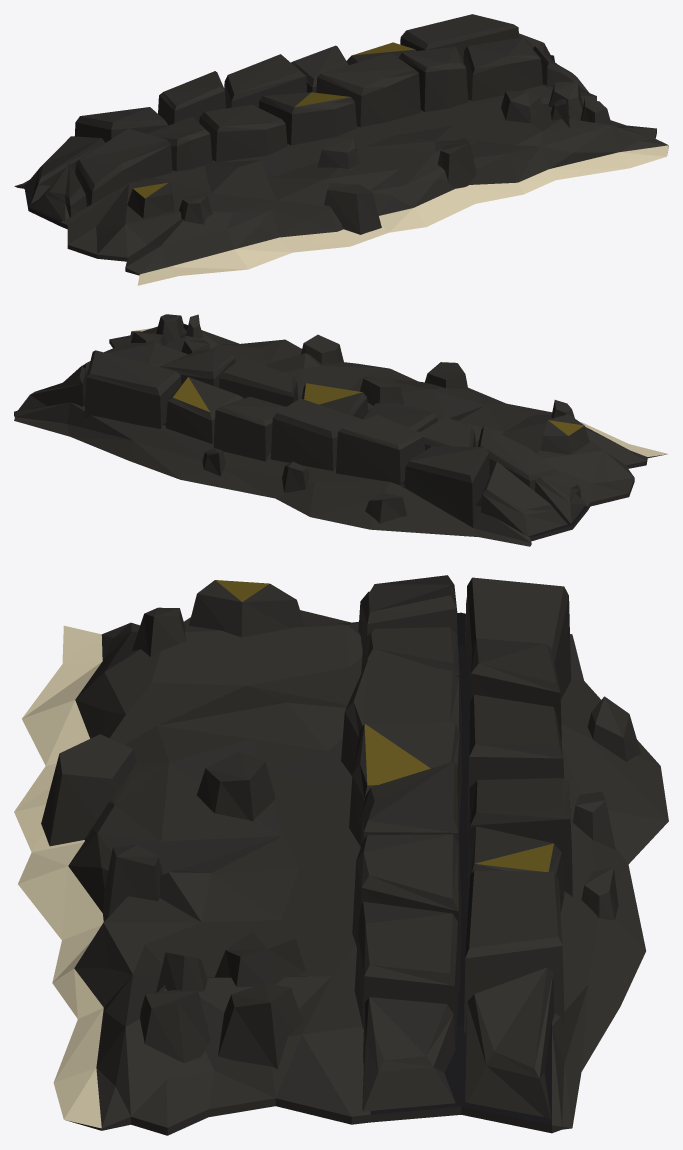
Rendered from black-rock-shoreline-tile-6a090c.glb.
3 views of the same model, one above another, from view 1: azimuth 30°, elevation 25°; view 2: azimuth 150°, elevation 25°; view 3: azimuth 270°, elevation 25° (orthographic). The views are drawn at different scales.
Parts seen in each view (by area): view 1: shoreline; view 2: shoreline; view 3: shoreline.
Part boxes in pixels (x1=…): shoreline: x1=14, y1=14, x2=668, y2=285; shoreline: x1=14, y1=314, x2=668, y2=546; shoreline: x1=14, y1=575, x2=668, y2=1135.
Size of the model in its own units: 4.24 by 0.5285 by 2.24.
